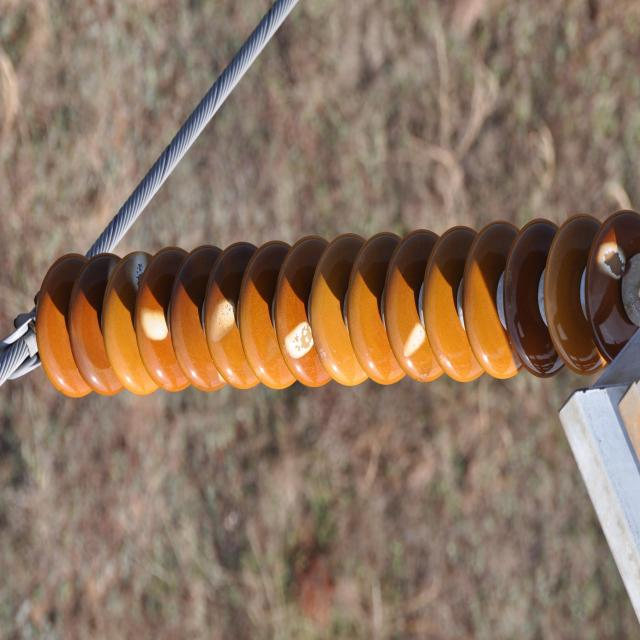insulator: (36, 206, 640, 400)
